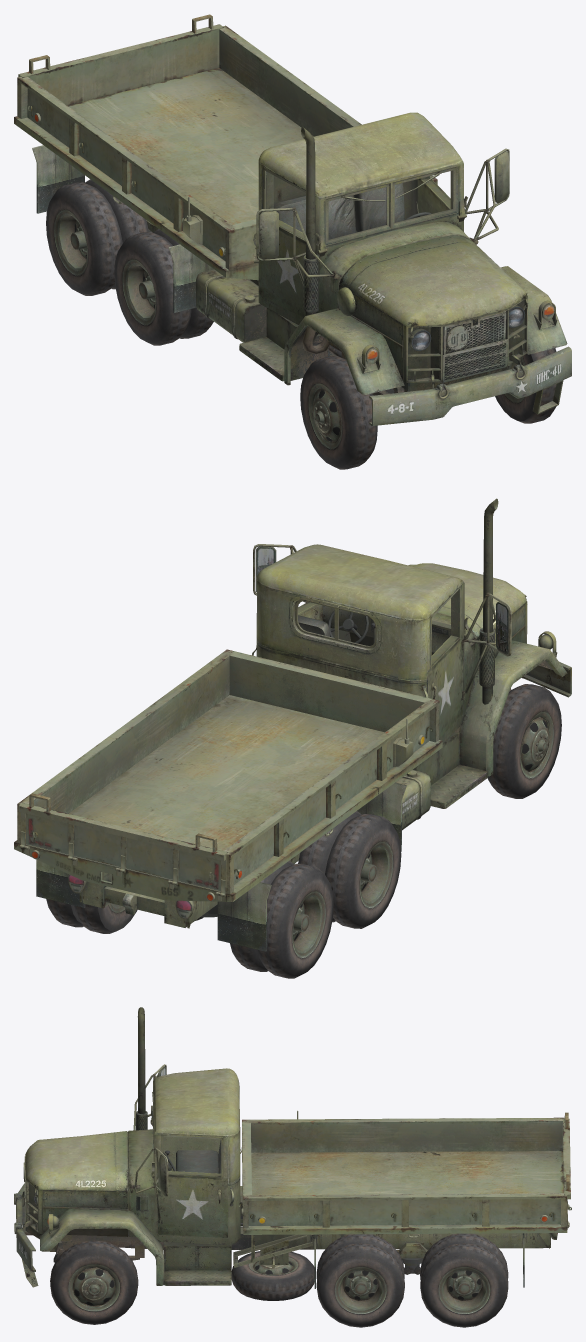
The model's file is armytruck.DAE.
The picture shows the model from 3 angles, top to bottom: view 1: azimuth 30°, elevation 25°; view 2: azimuth 150°, elevation 25°; view 3: azimuth 270°, elevation 25°; orthographic projection. The views are drawn at different scales.
Parts seen in each view (by area): view 1: armytruck; view 2: armytruck; view 3: armytruck.
Boxes of the visible parts, <box> form: armytruck: <box>14,14,571,469</box>; armytruck: <box>14,498,571,978</box>; armytruck: <box>14,1007,571,1327</box>.
Size of the model in its own units: 276 by 327 by 678.
